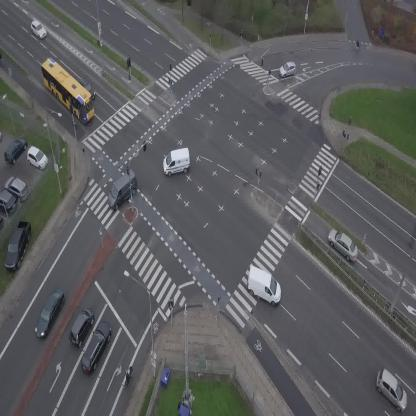bicycle: (124, 365, 134, 388), (351, 38, 364, 52), (0, 52, 4, 65)
bus: (33, 55, 103, 125)
car: (76, 318, 117, 377), (369, 366, 416, 413), (30, 286, 68, 341), (321, 225, 364, 265), (64, 304, 99, 349), (76, 78, 99, 100), (27, 18, 49, 41), (279, 61, 296, 78)
lorry: (239, 264, 289, 308), (99, 167, 146, 212), (161, 147, 192, 177)
